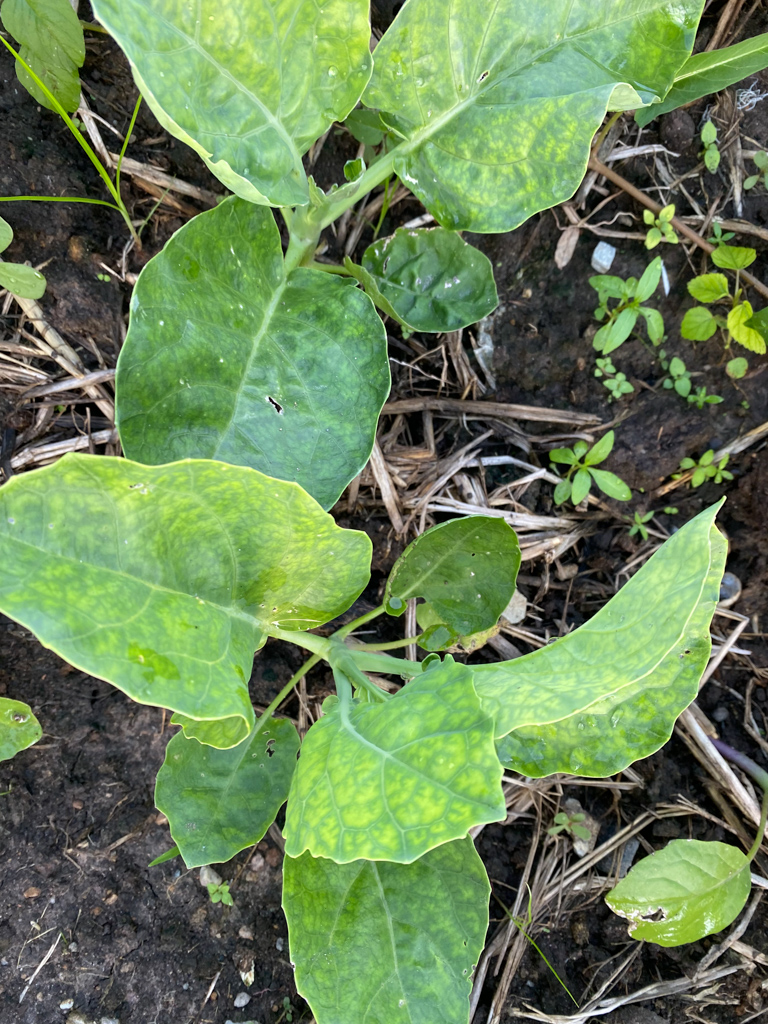Pepper yellow leaf: (6, 445, 365, 641), (276, 704, 495, 870)
